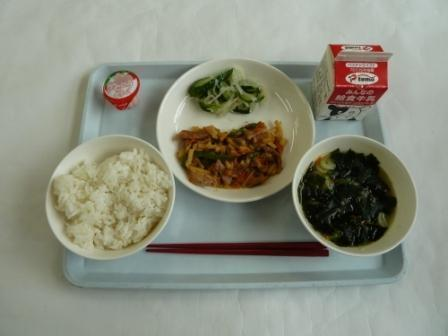Cup desserts: (101, 64, 146, 109)
Milk: (303, 41, 394, 124)
Rice: (48, 136, 167, 258)
Salad: (175, 56, 264, 118)
Soups: (298, 136, 414, 249)
vegetable based cooked food: (166, 119, 294, 191)
